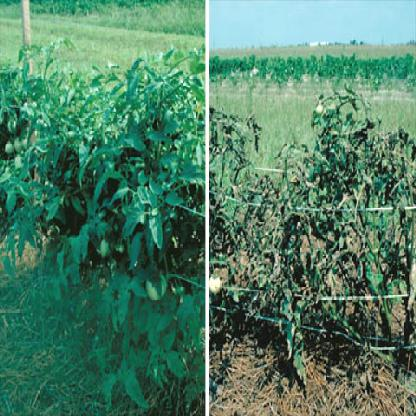Tomato leaf bacterial spot: (147, 209, 167, 256), (114, 285, 135, 329), (92, 160, 110, 208), (125, 125, 145, 159), (72, 230, 89, 265)
